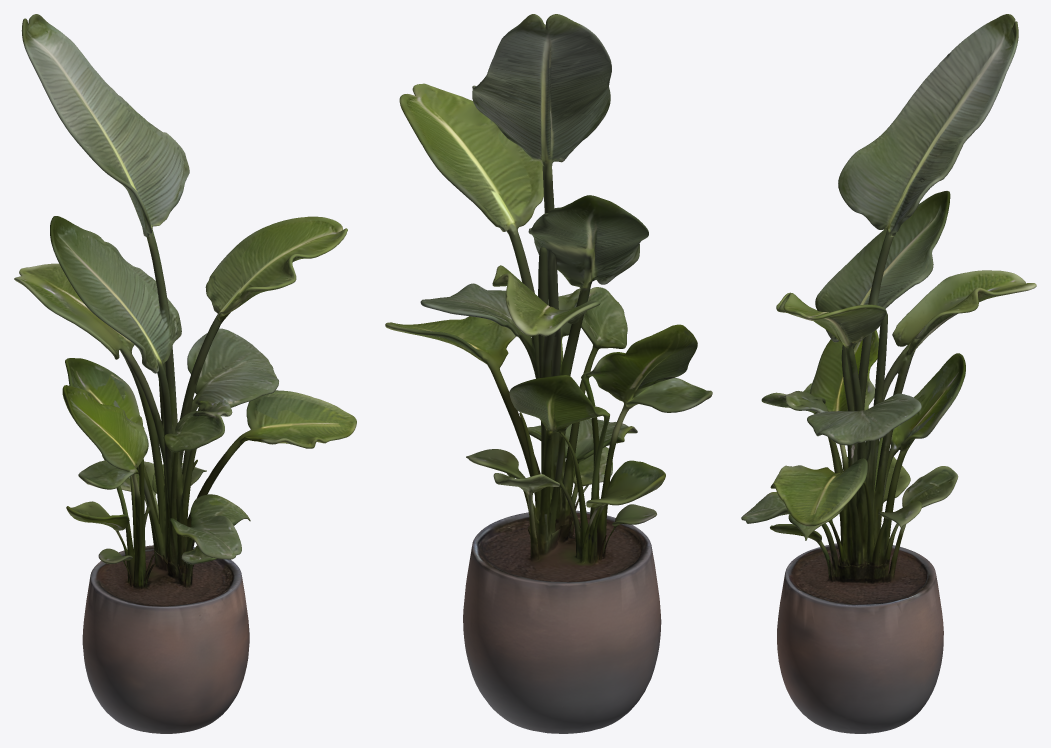
File: plant-CfqHpkaC.glb
3 renders of one model, left to right at view 1: azimuth 30°, elevation 25°; view 2: azimuth 150°, elevation 25°; view 3: azimuth 270°, elevation 25°, orthographic. The views are drawn at different scales.
Parts seen in each view (by area): view 1: node_0; view 2: node_0; view 3: node_0.
Part boxes in pixels (bbox=[...]): node_0: bbox=[14, 14, 356, 733]; node_0: bbox=[385, 14, 712, 733]; node_0: bbox=[741, 14, 1036, 733].
Size of the model in its own units: 0.4718 by 1.09 by 0.4378.
Materials: 1 (1 with a texture image).
